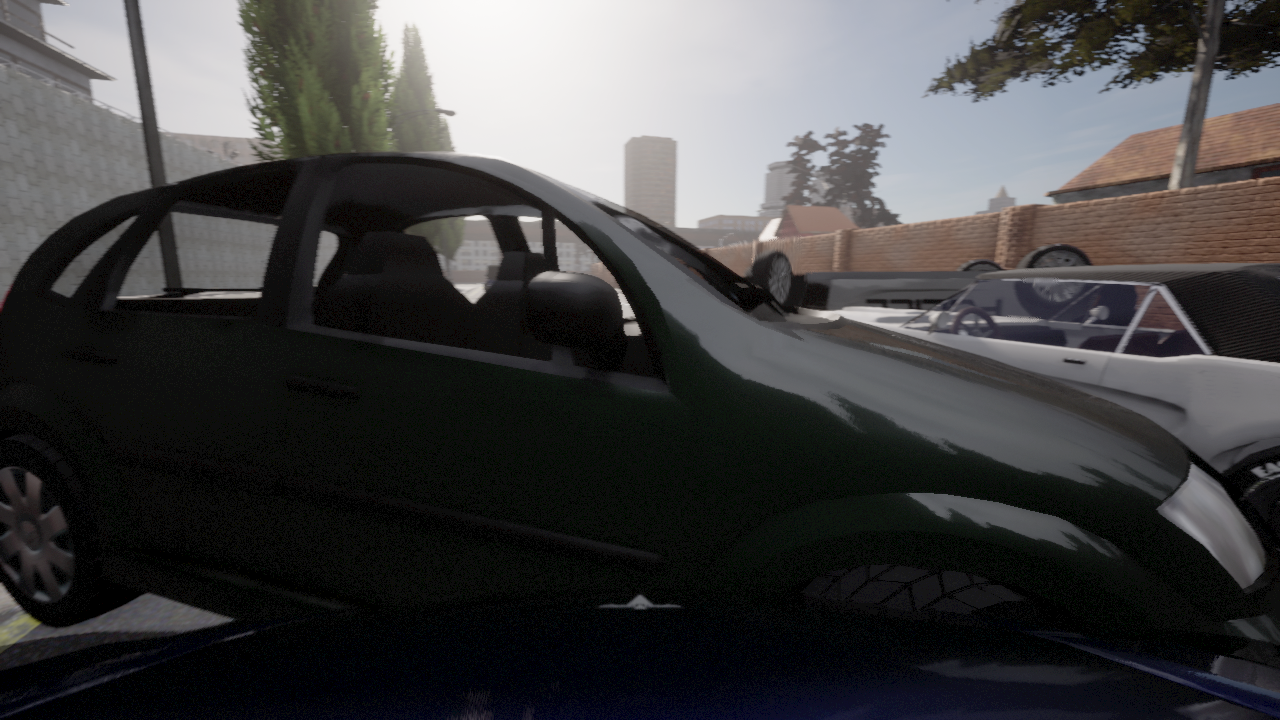cyclist: (0, 152, 1279, 644), (0, 588, 1279, 719), (826, 263, 1279, 542), (741, 245, 1091, 310)
